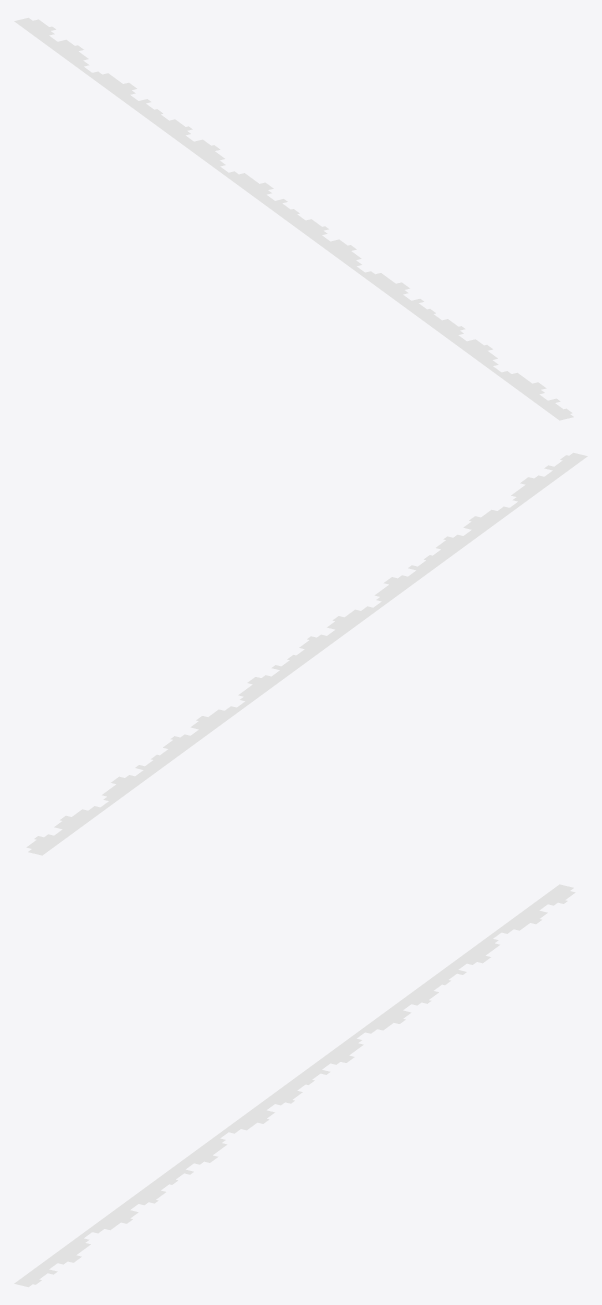
Rendered from SW_WaterEdge_10.fbx.
3 renders of one model, top to bottom at view 1: azimuth 30°, elevation 25°; view 2: azimuth 150°, elevation 25°; view 3: azimuth 330°, elevation 25°, orthographic.
Visible parts, largest first — view 1: SW_WaterEdge_10; view 2: SW_WaterEdge_10; view 3: SW_WaterEdge_10.
Part boxes in pixels (box(x1,y1,x2,y2)): SW_WaterEdge_10: box(14, 17, 573, 420); SW_WaterEdge_10: box(26, 452, 587, 855); SW_WaterEdge_10: box(14, 884, 575, 1287).
Size of the model in its own units: 30 by 2.22e-13 by 1000.
1 material, 1 textured.
